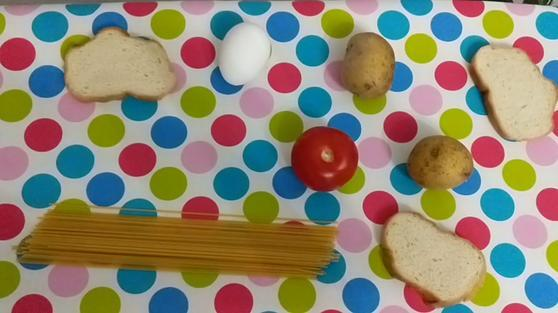egg: (213, 17, 275, 89)
potato: (329, 27, 405, 104), (399, 135, 477, 192)
spaghetti: (16, 197, 347, 287)
tomato: (286, 121, 364, 192)
white_bread: (366, 207, 505, 309), (48, 21, 187, 110), (466, 40, 558, 145)
